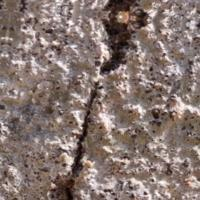crack: (61, 1, 152, 199)
